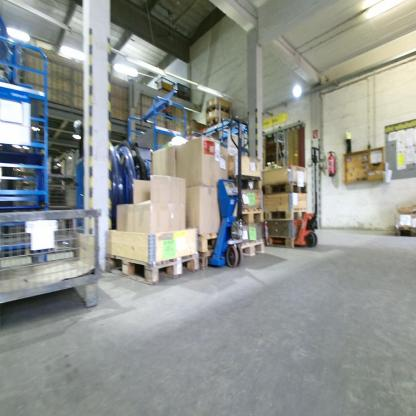pallet: (104, 248, 201, 282), (261, 181, 311, 200), (226, 173, 262, 192), (195, 231, 224, 254), (239, 236, 265, 261), (264, 234, 308, 248), (238, 208, 263, 230), (261, 209, 309, 220), (202, 251, 221, 267), (395, 225, 415, 239)
pallet_truck: (208, 114, 251, 269), (267, 144, 324, 251)
stillage: (0, 206, 104, 324)
